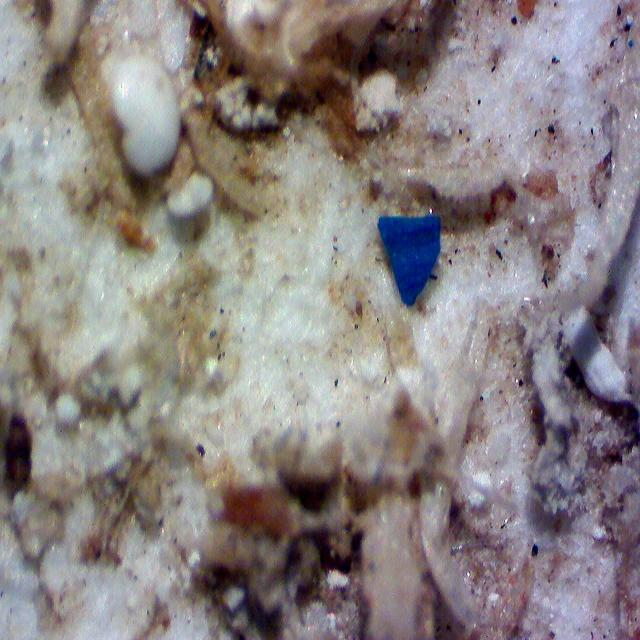microplastic: (378, 213, 442, 308)
